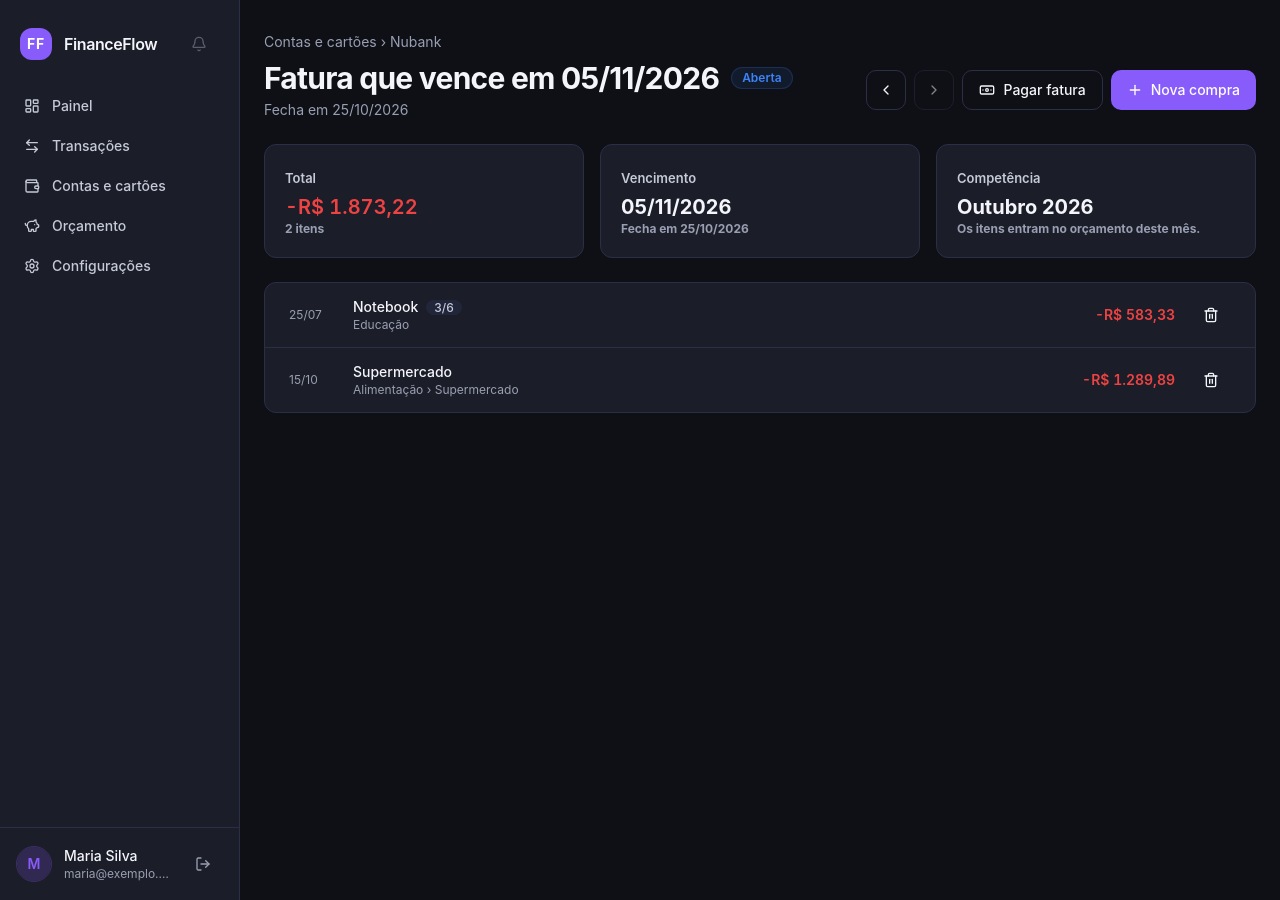
Test: fatura › navega para a fatura anterior
The image size is (1280, 900).
Expected: the button named "Próxima fatura" is disabled, [914,70,954,110]
Click the link named "Fatura anterior". click: x=886, y=90
box: [866,70,906,110]
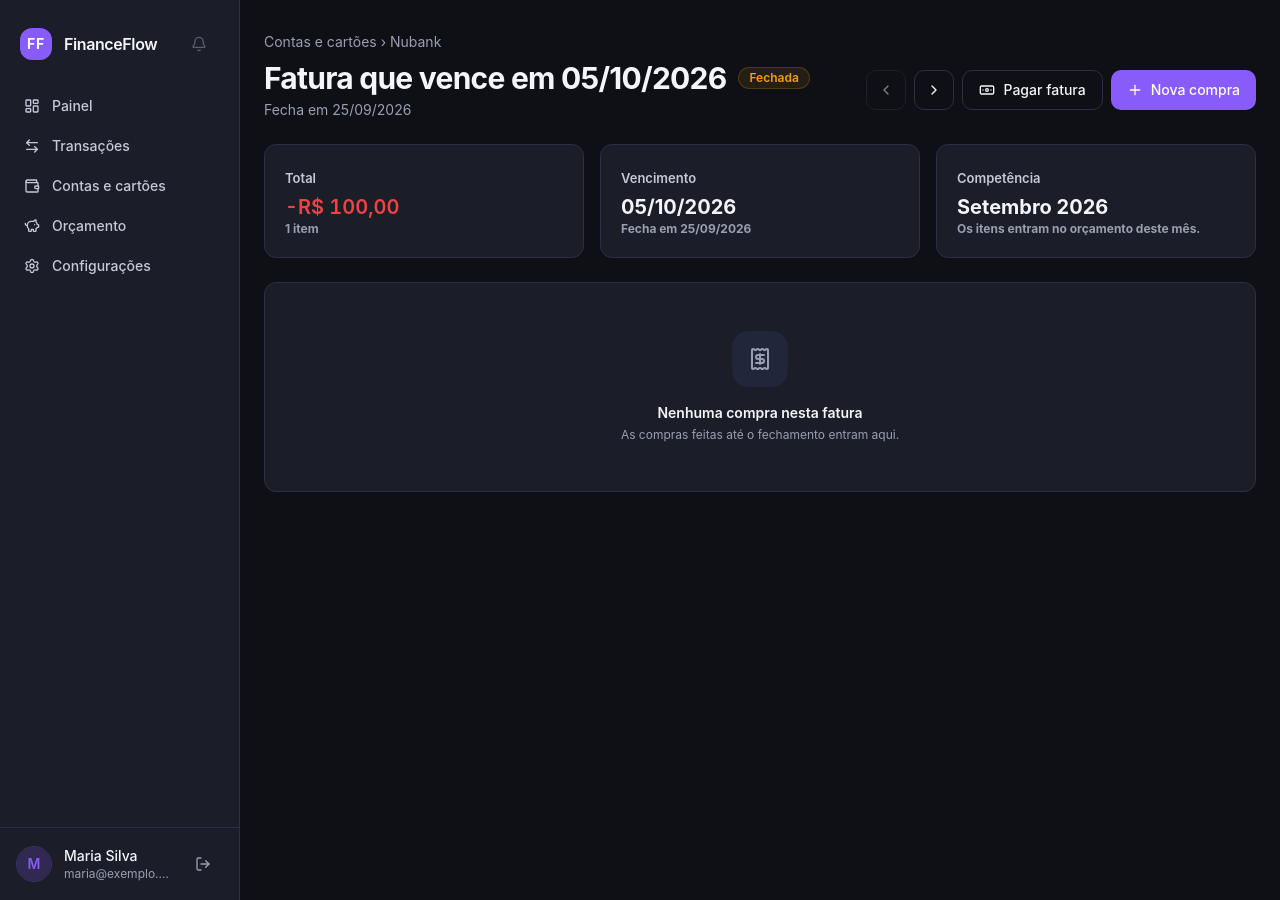
Expected: the heading "Fatura que vence em 05/10/2026" is shown, [264,60,726,96]
Expected: the heading "Nenhuma compra nesta fatura" is shown, [657,403,862,423]
